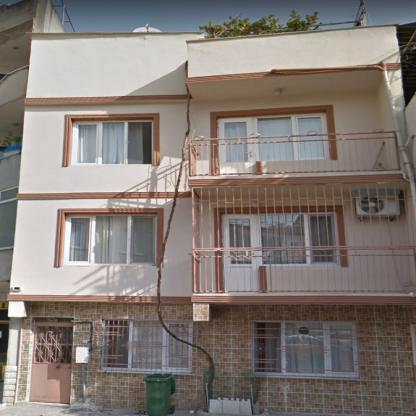door: (30, 318, 73, 402), (223, 213, 261, 291), (218, 117, 253, 174)
window: (252, 320, 358, 378), (64, 213, 154, 264), (103, 320, 191, 372), (68, 118, 152, 166), (262, 212, 338, 264), (257, 113, 328, 161), (166, 321, 191, 341)
